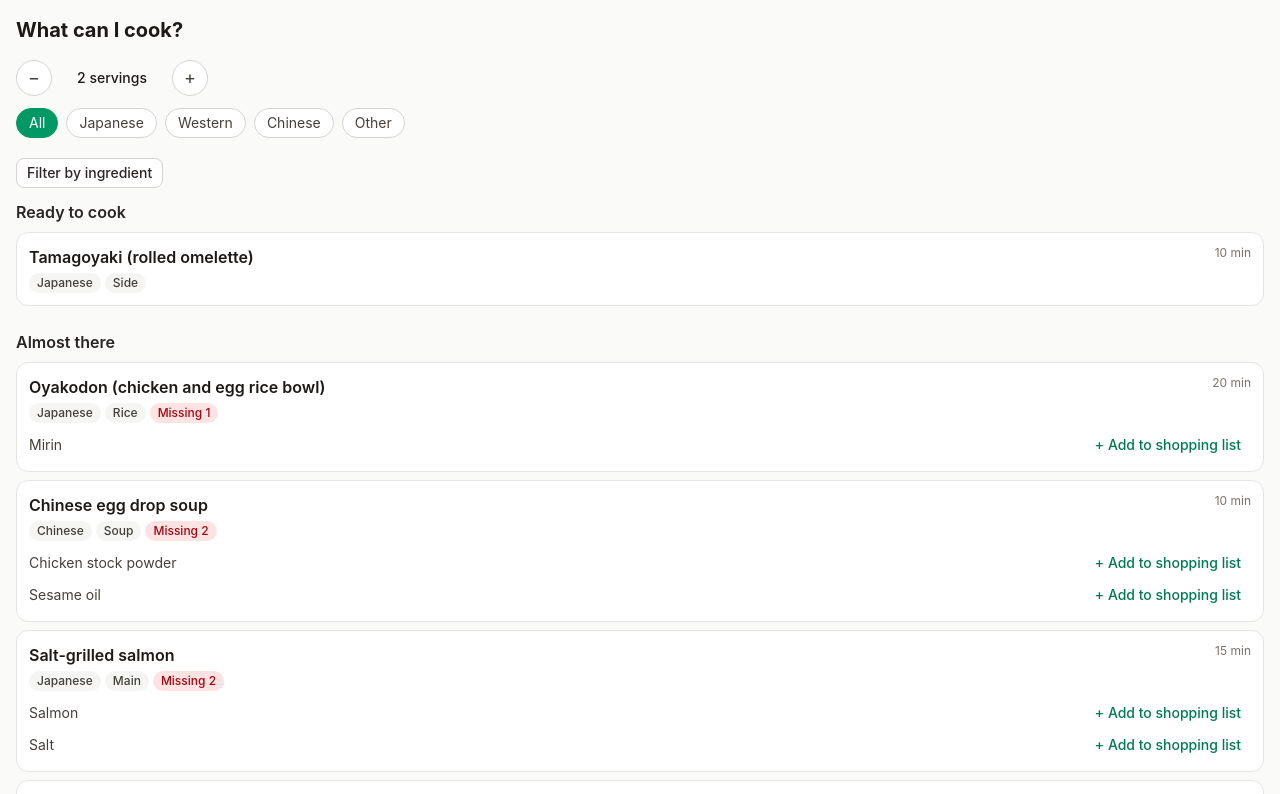
Test: SuggestionsPage › filters recipes down to those using every selected ingredient
Expected: the text "Tamagoyaki (rolled omelette)" is shown, [29,245,254,269]
Click the button "Filter by ingredient" at (90, 173), box [16,158,163,188]
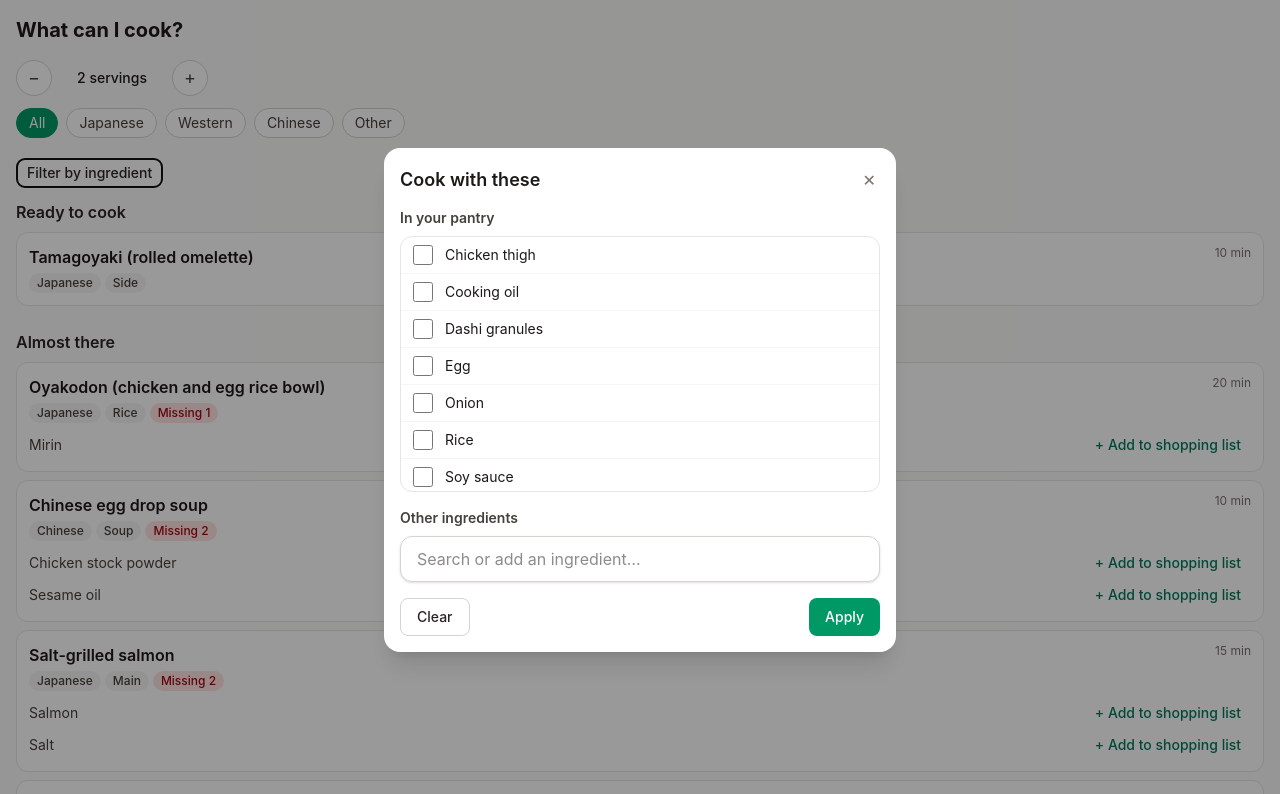
Click the checkbox labelled "Chicken thigh" at (423, 255), box [413,245,433,265]
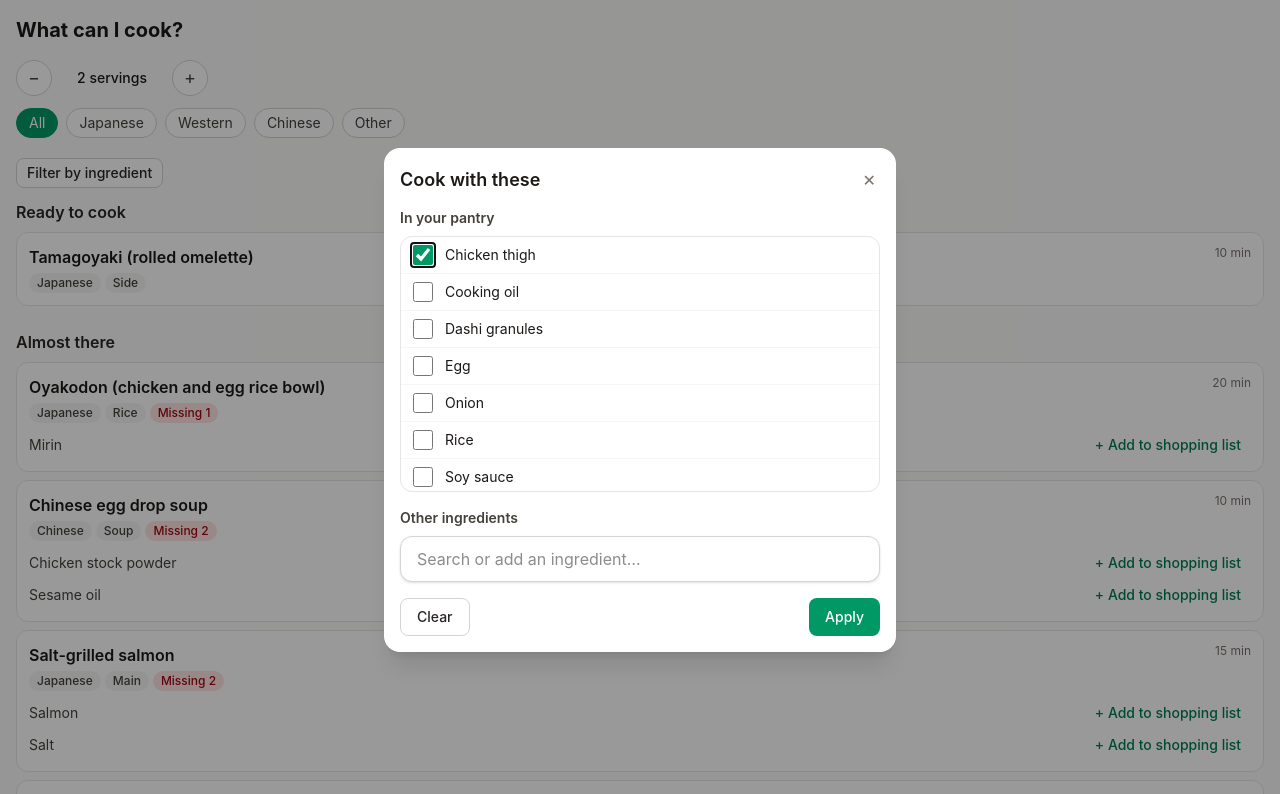
Click the button "Apply" at (845, 617), box [809,598,880,636]
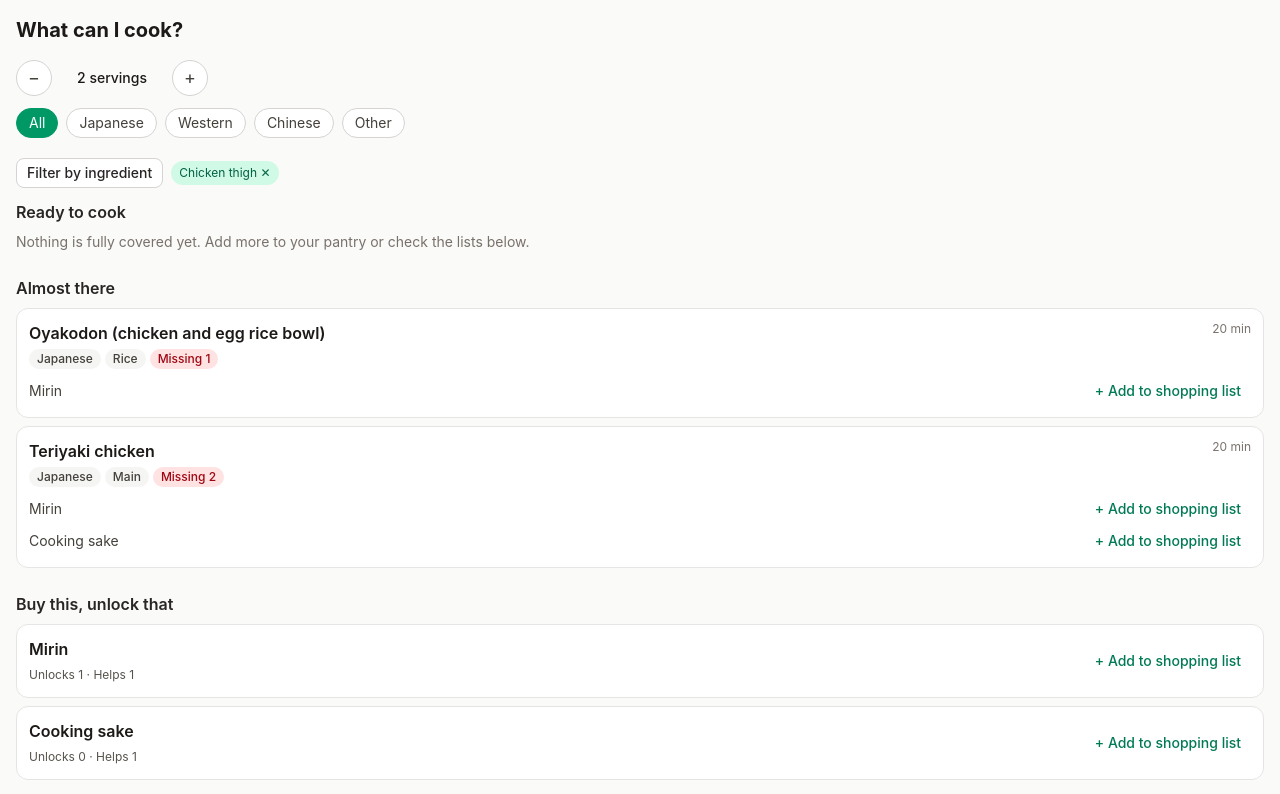
Expected: the text "Oyakodon (chicken and egg rice bowl)" is shown, [29,321,326,345]
Now the link "Tamagoyaki (rolled omelette)" is gone
Click the button with aria-label "Remove Chicken thigh" at (225, 173), box [171,161,278,185]
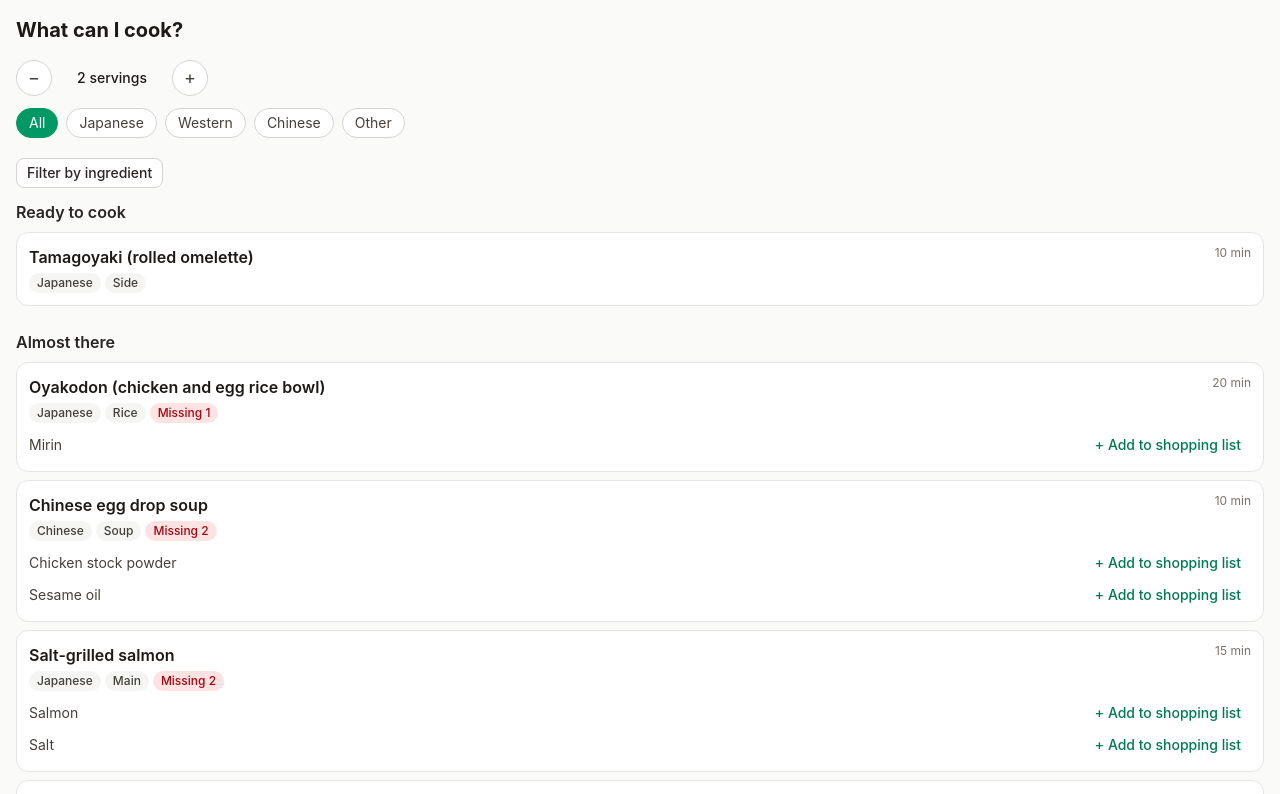
Now the text "Tamagoyaki (rolled omelette)" is shown, box [29,245,254,269]
